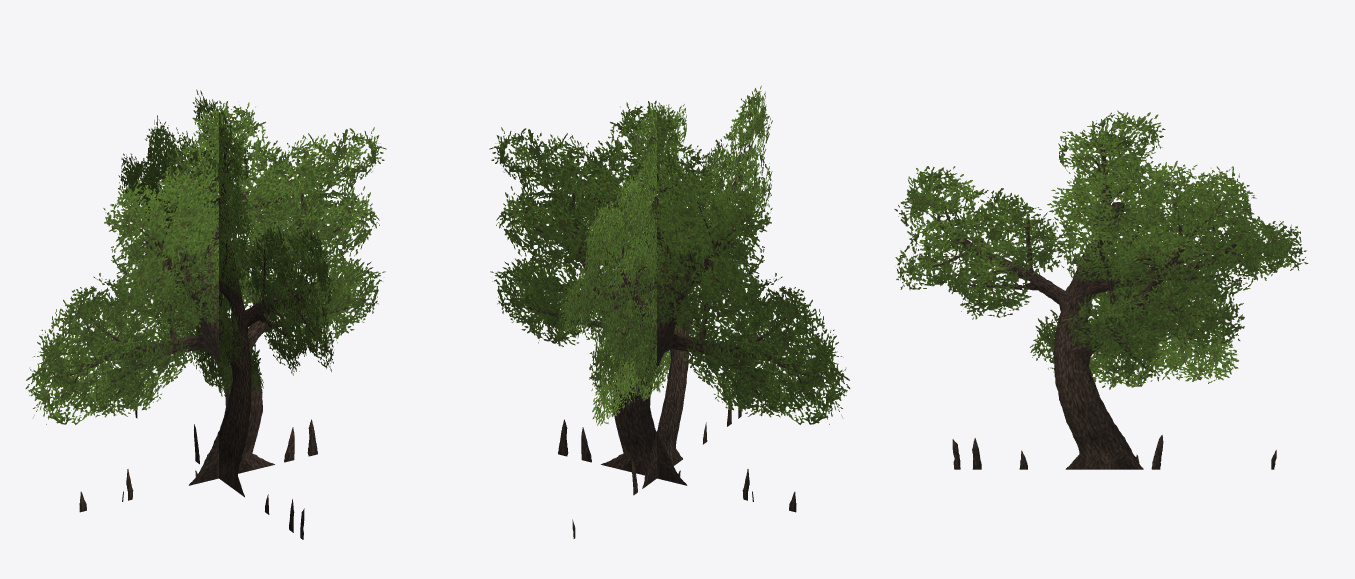
The model's file is Oak_07.lod3.glb.
The picture shows the model from 3 angles, left to right: view 1: azimuth 30°, elevation 25°; view 2: azimuth 150°, elevation 25°; view 3: azimuth 270°, elevation 25°; orthographic projection. The views are drawn at different scales.
Visible parts, largest first — view 1: Billboard; view 2: Billboard; view 3: Billboard.
Boxes of the visible parts, x1=… form: Billboard: x1=25, y1=89, x2=386, y2=539; Billboard: x1=489, y1=85, x2=850, y2=538; Billboard: x1=894, y1=110, x2=1308, y2=469.
Bounding box in the file's own units: 15.66 × 13.82 × 15.66.
Materials: 1 (1 with a texture image).
